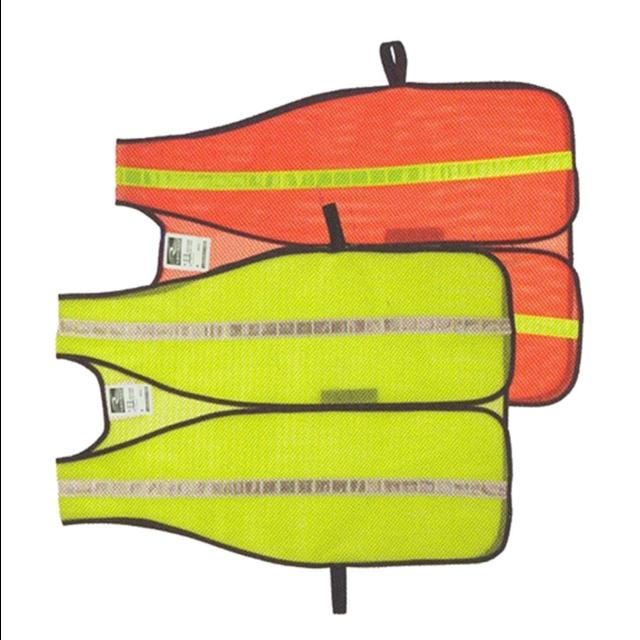jacket: (48, 234, 506, 577)
